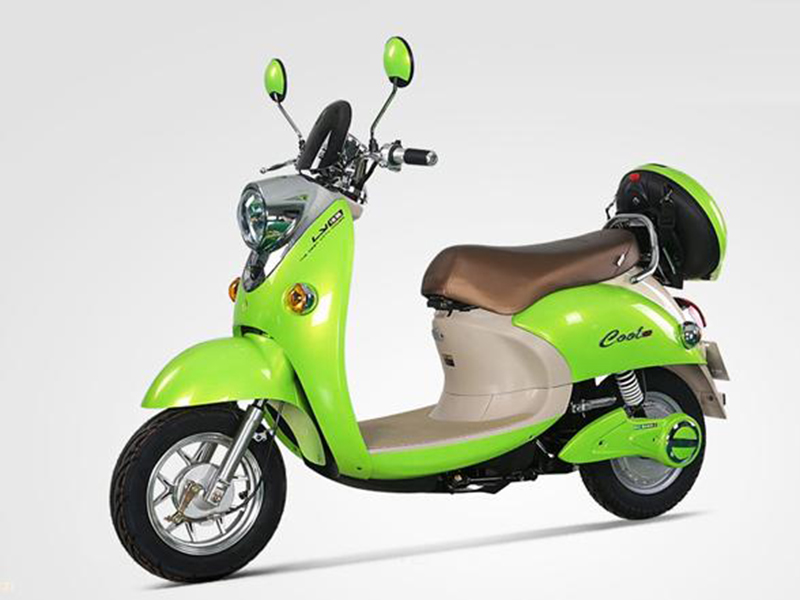MNV: (109, 57, 732, 582)
